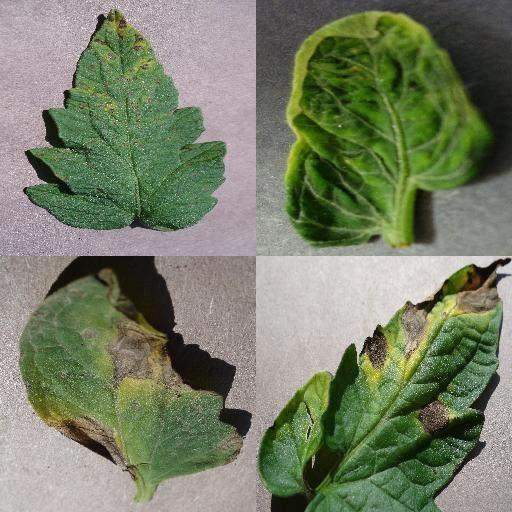Early Blight: (257, 256, 512, 512), (21, 268, 244, 482)
Septoria: (22, 9, 228, 233)
Yellow Leaf Curl Virus: (283, 10, 493, 250)
